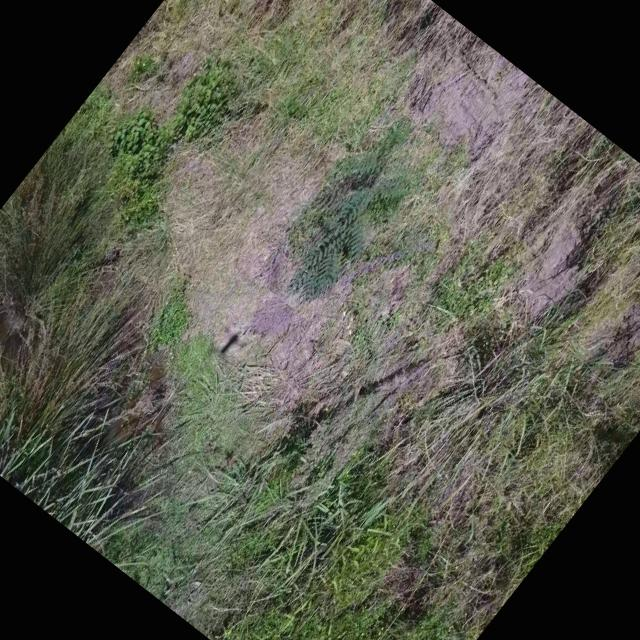Mysore-Thorn-Weed: (253, 104, 445, 322)
